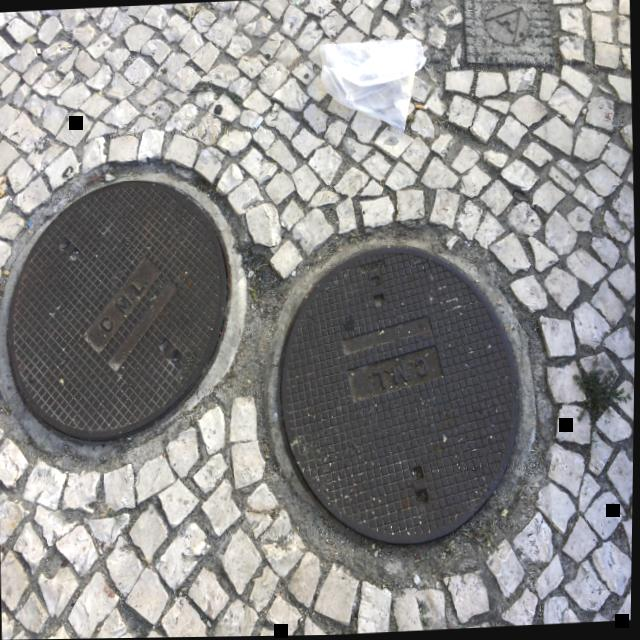Cigarette: (253, 115, 264, 130), (415, 104, 427, 109)
Plastic film: (319, 39, 426, 133)
